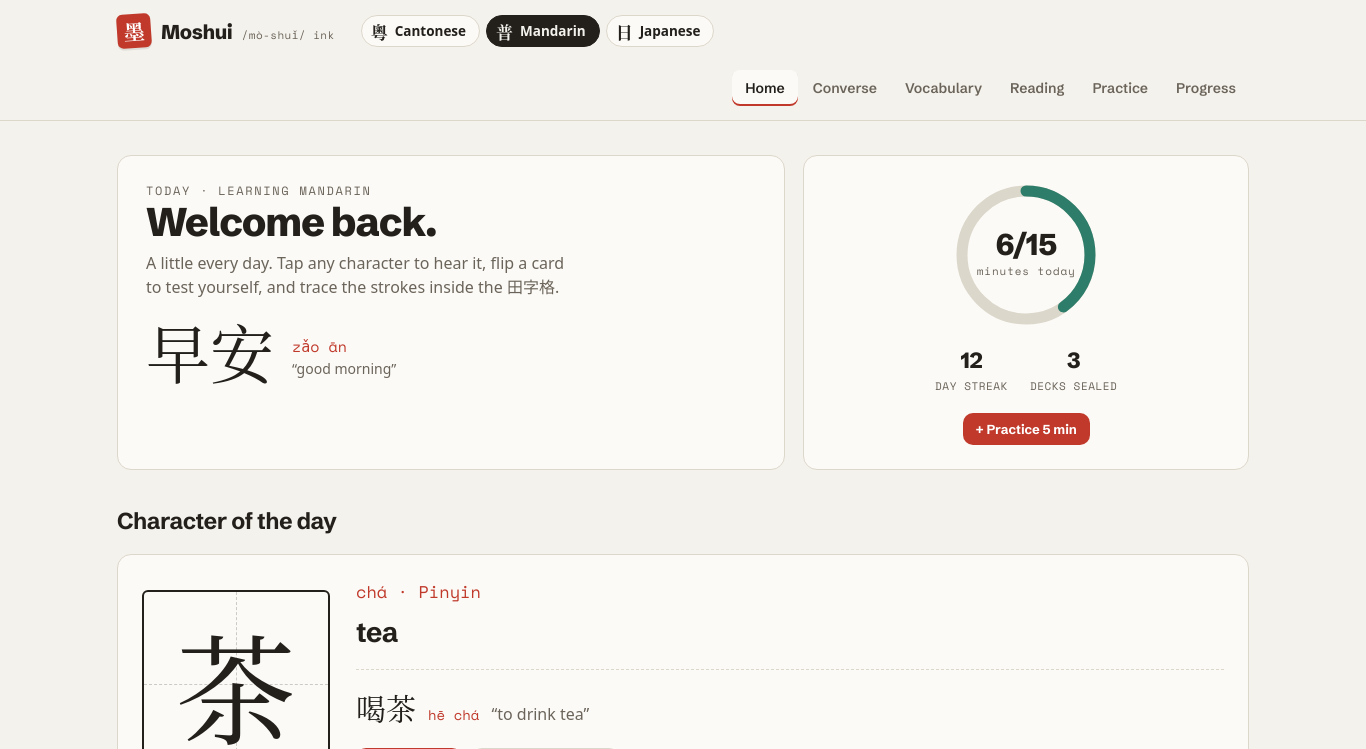
Test: accessibility (T4) › labels the Reading line reveal and play controls with their target
Click the button "Reading" at (1037, 88), box [997,70,1077,106]
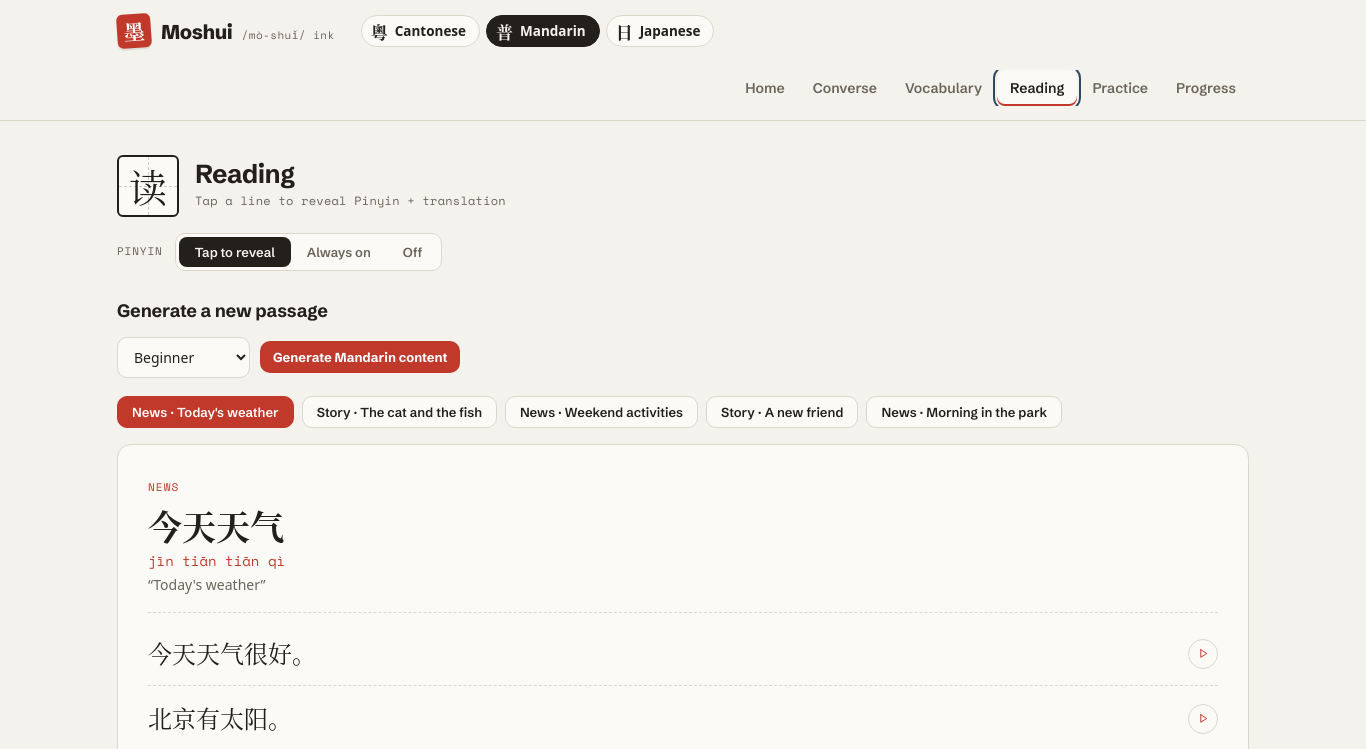
Check: the button named "Play line:" is shown, box [1188,639,1218,669]
